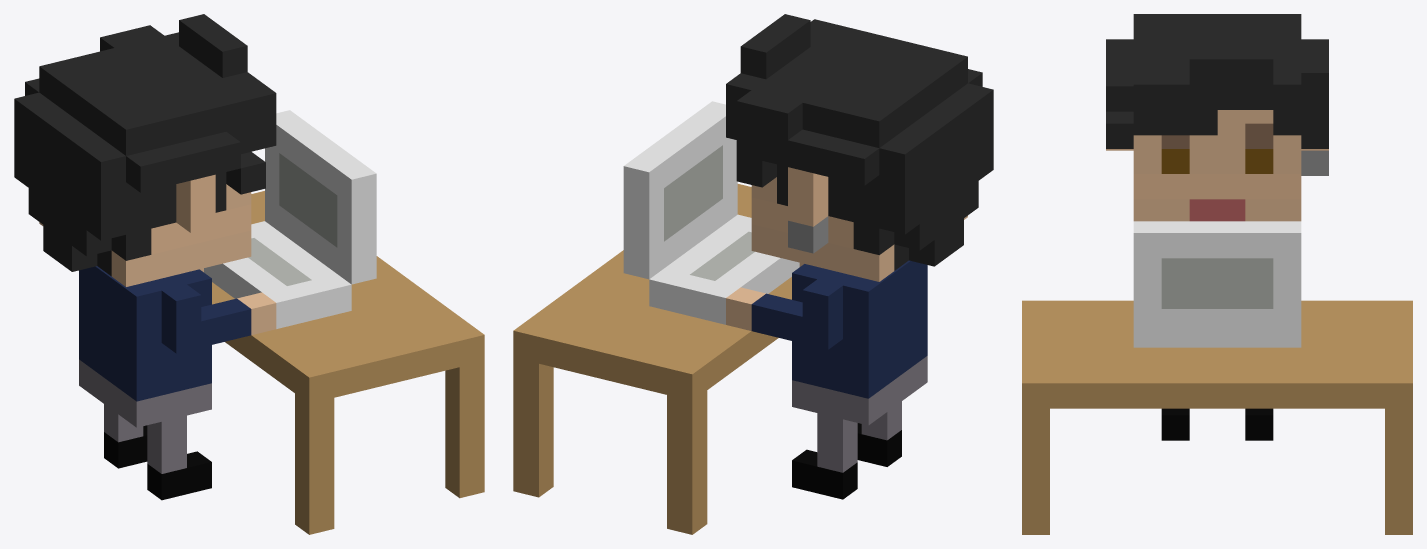
The model's file is dog.glb.
3 renders of one model, left to right at view 1: azimuth 30°, elevation 25°; view 2: azimuth 150°, elevation 25°; view 3: azimuth 270°, elevation 25°, orthographic. The views are drawn at different scales.
Parts seen in each view (by area): view 1: Layer.1; view 2: Layer.1; view 3: Layer.1.
Part boxes in pixels (x1,y1,x2,y2): Layer.1: [14, 14, 484, 534]; Layer.1: [513, 14, 993, 534]; Layer.1: [1022, 14, 1412, 534].
Size of the model in its own units: 13 by 16 by 14.
Materials: 1 (1 with a texture image).
